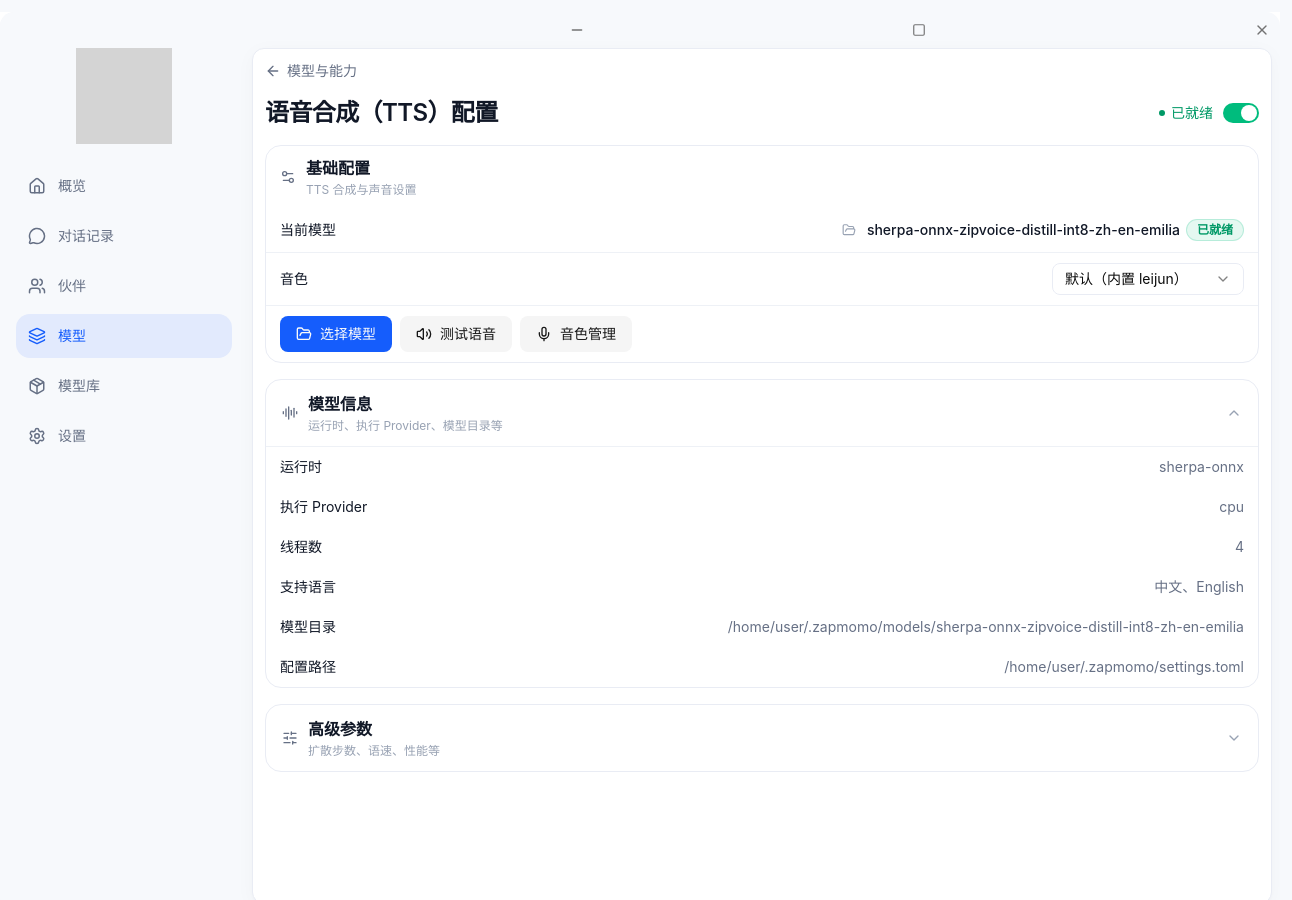
TtsPage（语音合成 TTS） › 顶部开关切换持久化 enabled（set_tts_enabled）
The width and height of the screenshot is (1292, 900).
Check: the heading "语音合成（TTS）配置" is shown, box [265,97,498,129]
Step 1. Click the switch named "语音合成开关" → (1241,113), box [1223,103,1259,123]
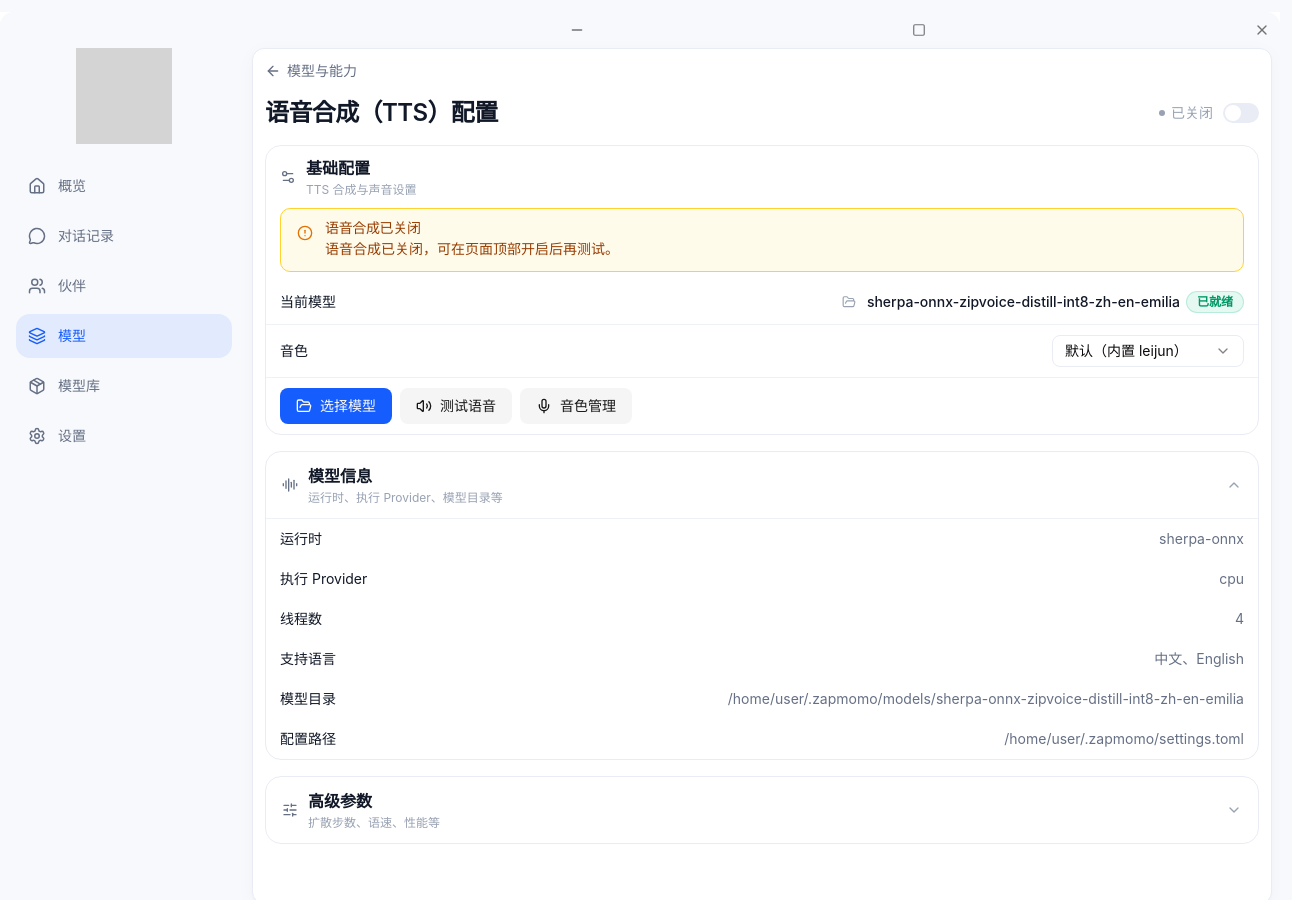
Check: the text "已关闭" is shown, box [1159,103,1213,123]
